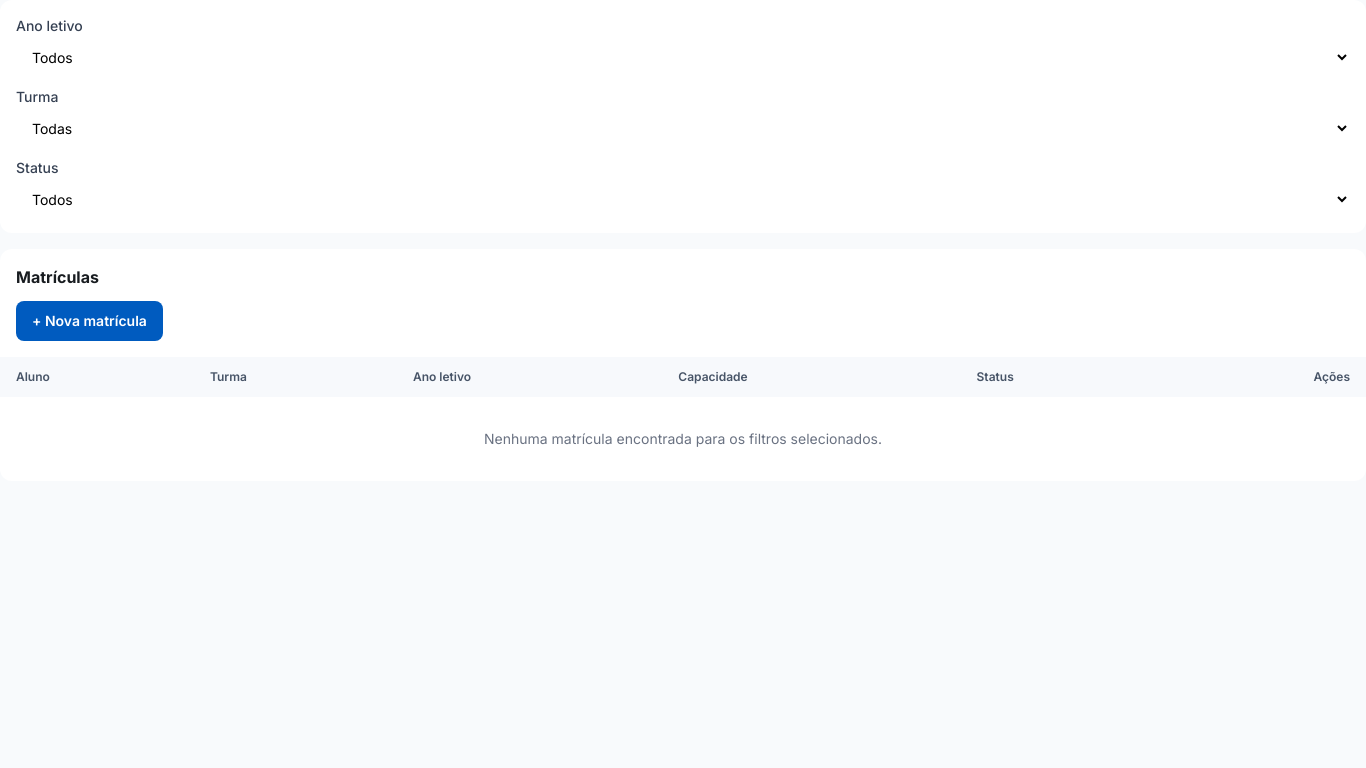
Scenario: EnrollmentsTab - vínculo de responsável após matrícula › abre o vínculo com o aluno recém-matriculado e lista apenas responsáveis ativos
Click the button "+ Nova matrícula" at (89, 321), box x1=16 y1=301 x2=163 y2=341
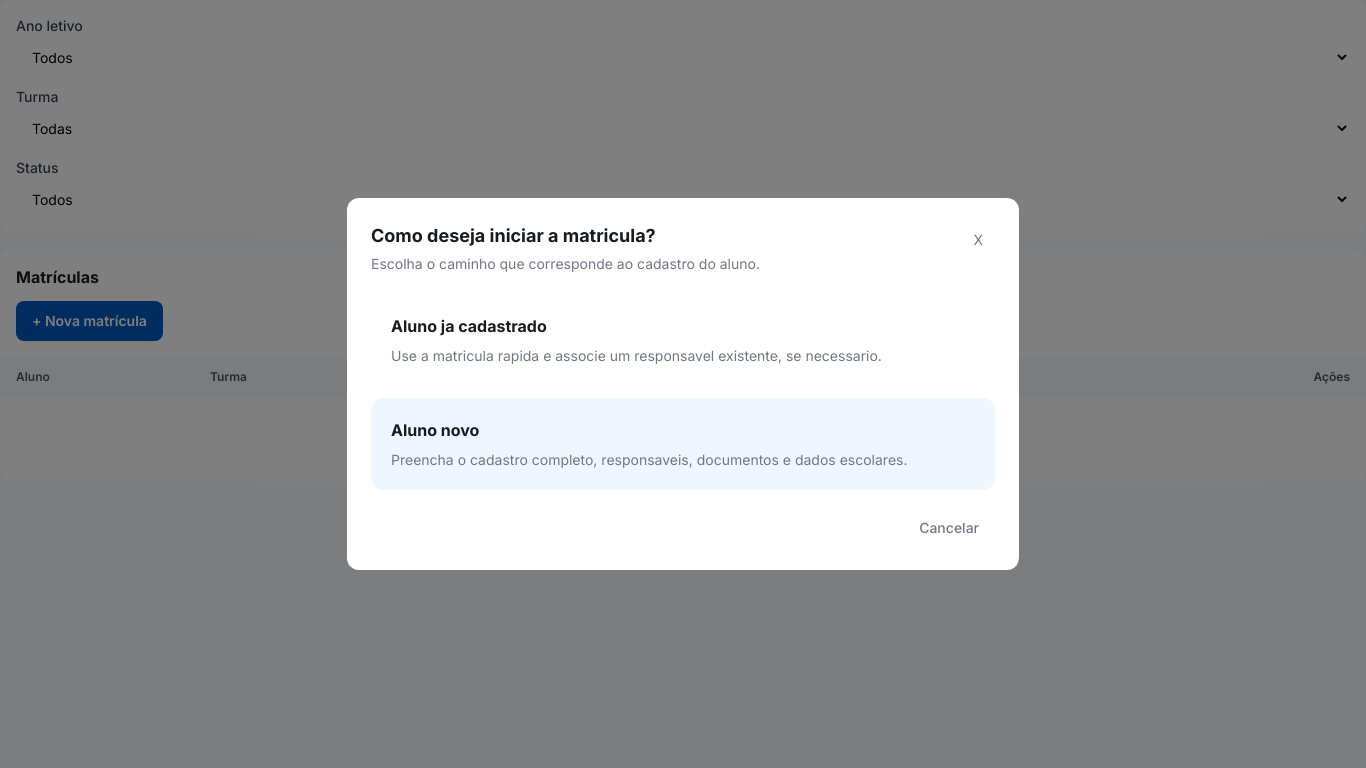
Click the button "Aluno ja cadastrado" at (469, 326), box x1=371 y1=294 x2=995 y2=386
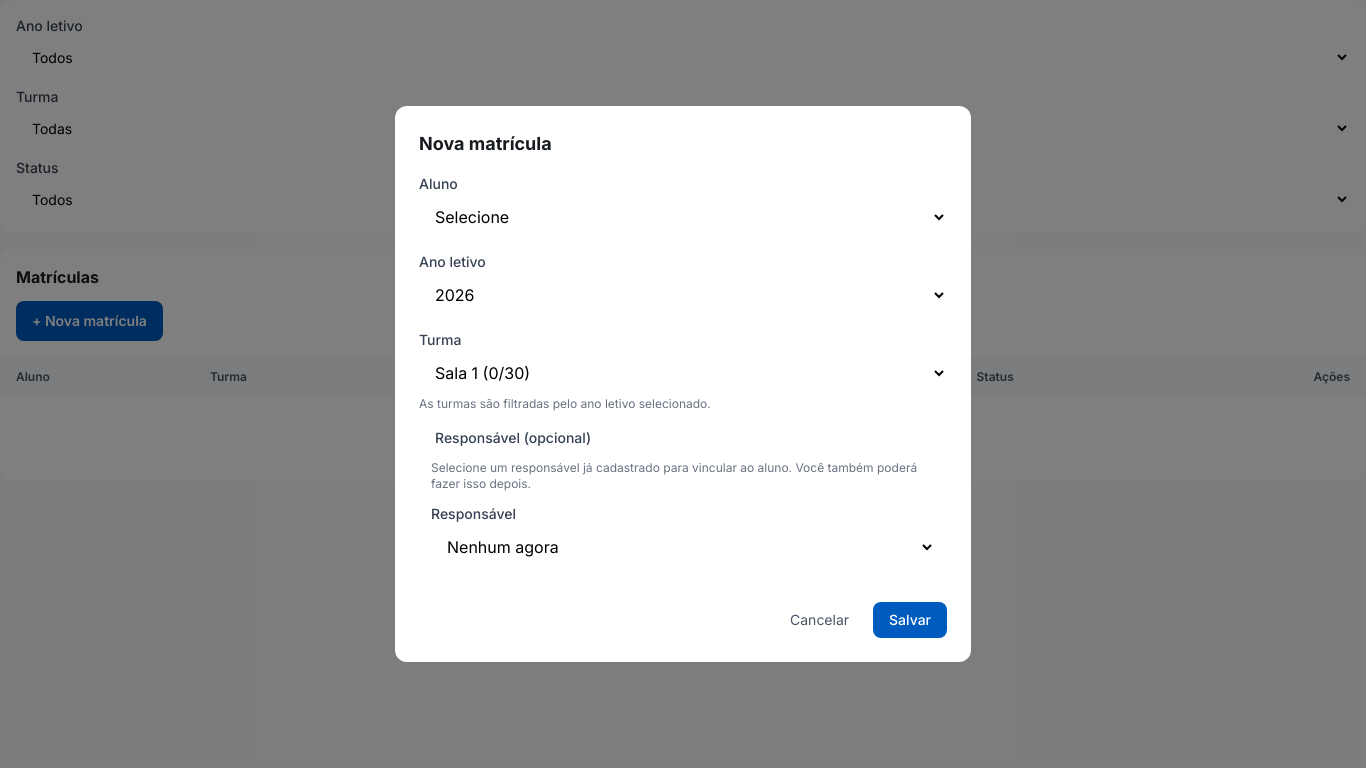
Select "Ieti (20260001)" in the dropdown labelled "Aluno" at (683, 217), box x1=419 y1=198 x2=947 y2=236
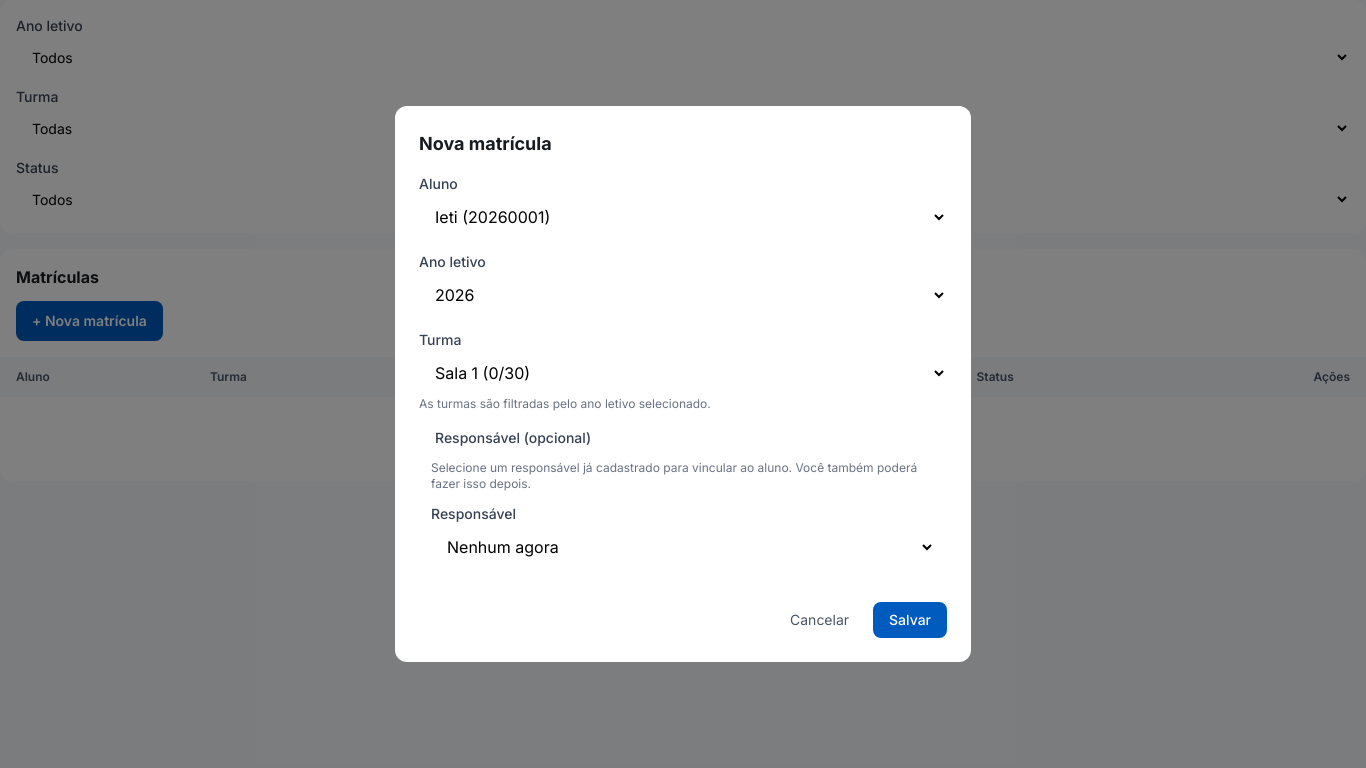
Select "2026" in the dropdown with id "enrollment-year" at (683, 295), box x1=419 y1=276 x2=947 y2=314
Select "Sala 1 (0/30)" in the dropdown with id "enrollment-class" at (683, 373), box x1=419 y1=354 x2=947 y2=392
Click the button "Salvar" at (910, 620), box x1=873 y1=602 x2=947 y2=638
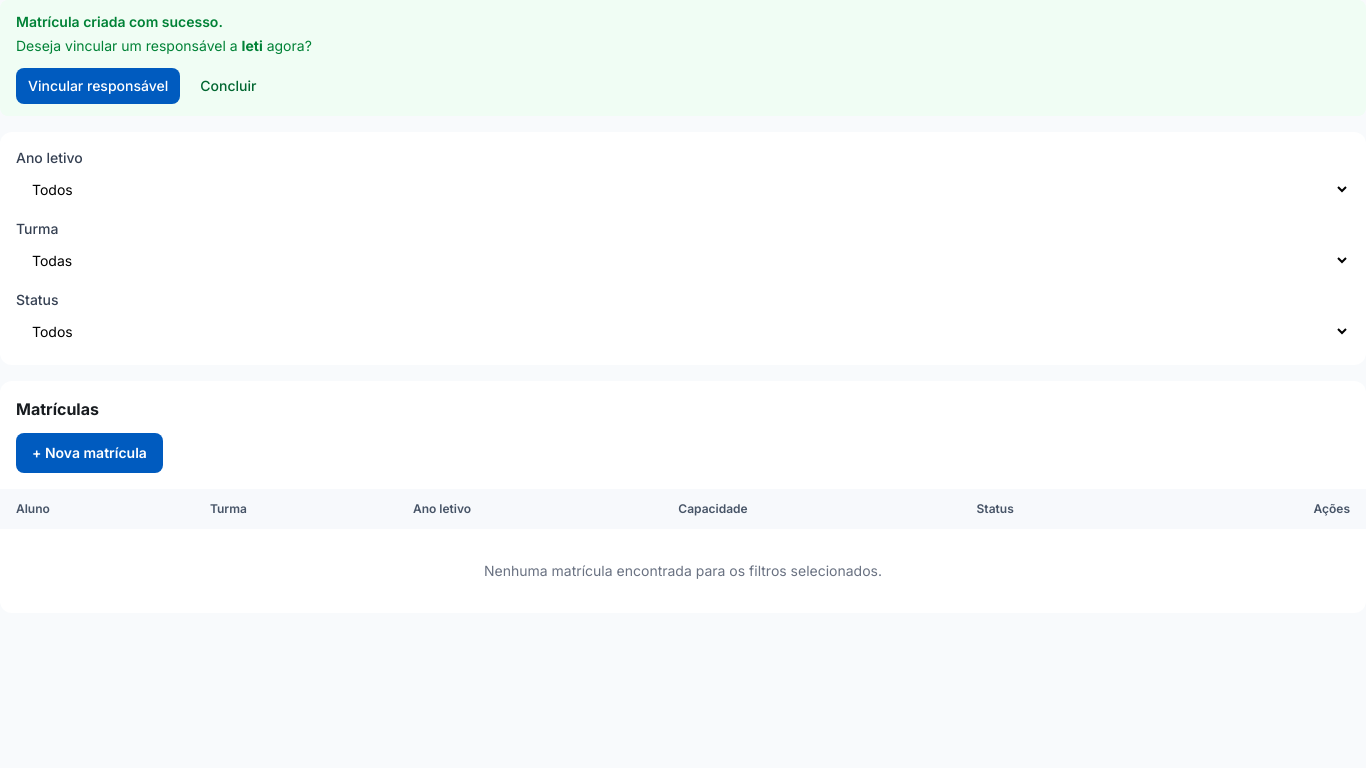
Click the button "Vincular responsável" at (98, 86), box x1=16 y1=68 x2=180 y2=104
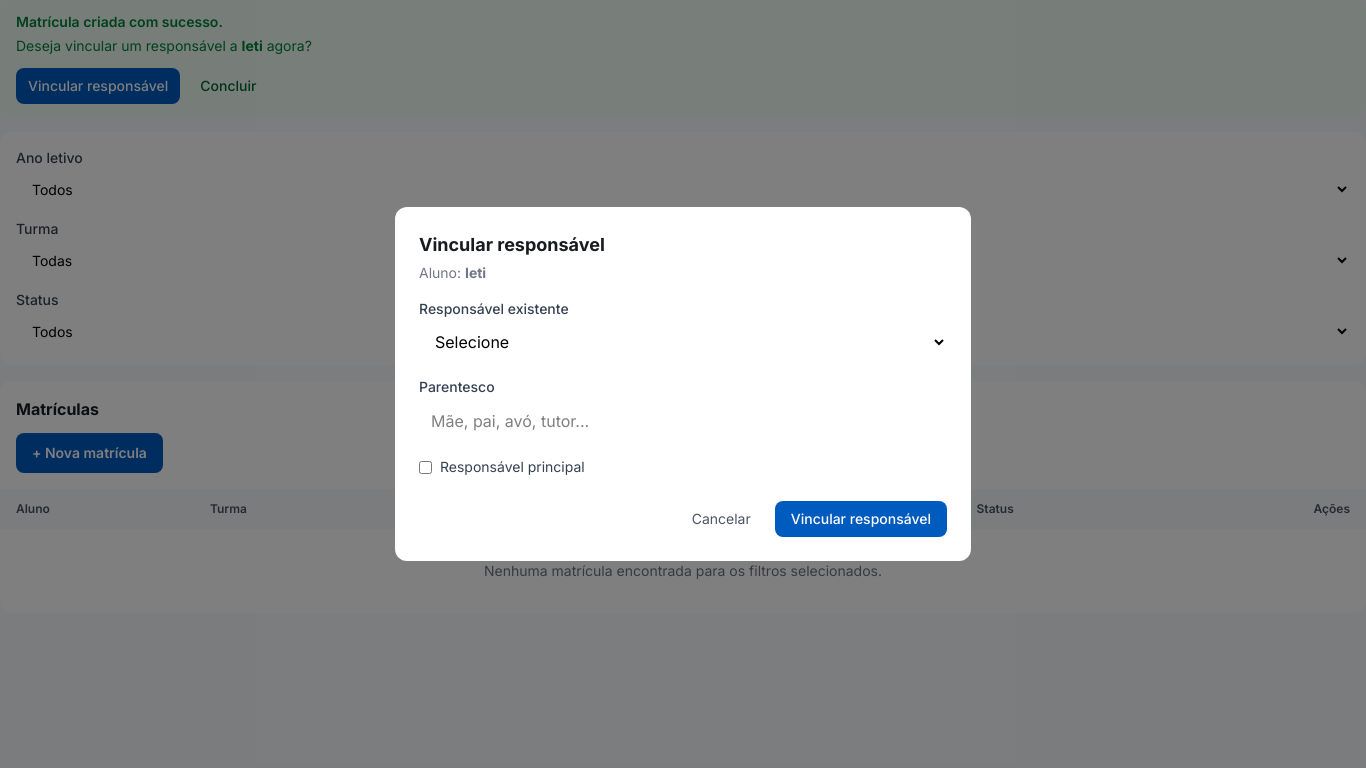
Now the dialog "Vincular responsável" is shown
Now the dialog "Vincular responsável" shows "Aluno: Ieti"
